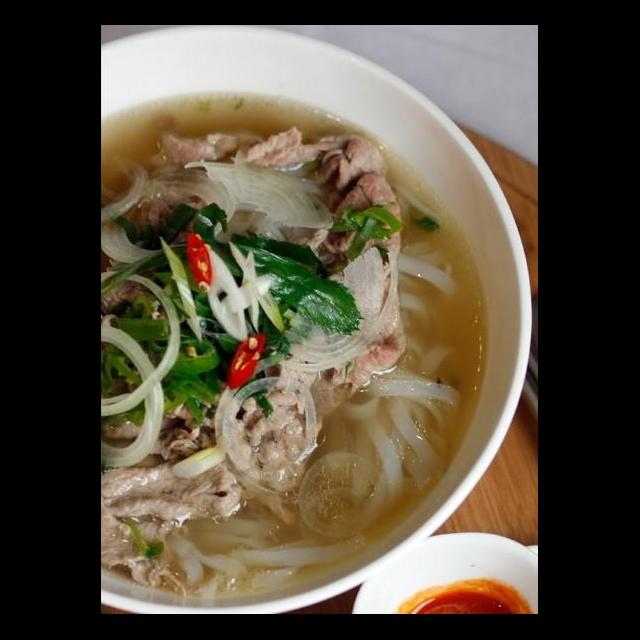banh pho: (310, 364, 470, 506), (166, 508, 370, 608), (396, 240, 464, 336)
pho bo: (103, 73, 483, 605)
thit bo: (210, 242, 412, 536), (103, 442, 250, 594), (146, 394, 322, 470), (320, 128, 408, 270), (150, 119, 332, 178)
